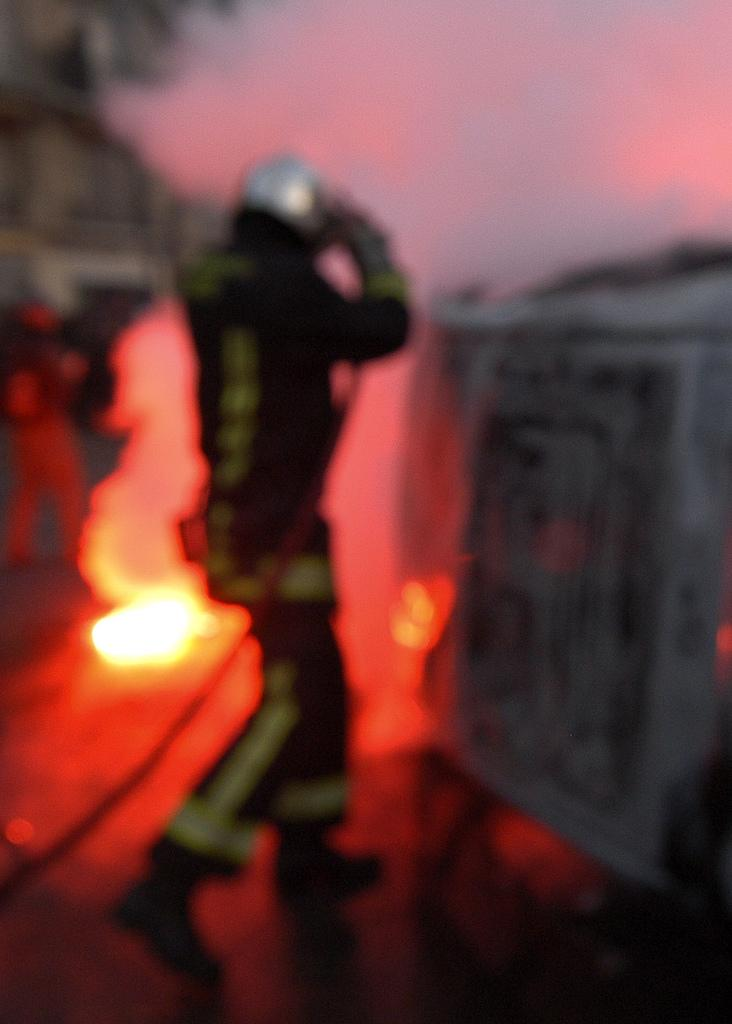fire: (98, 585, 205, 655)
